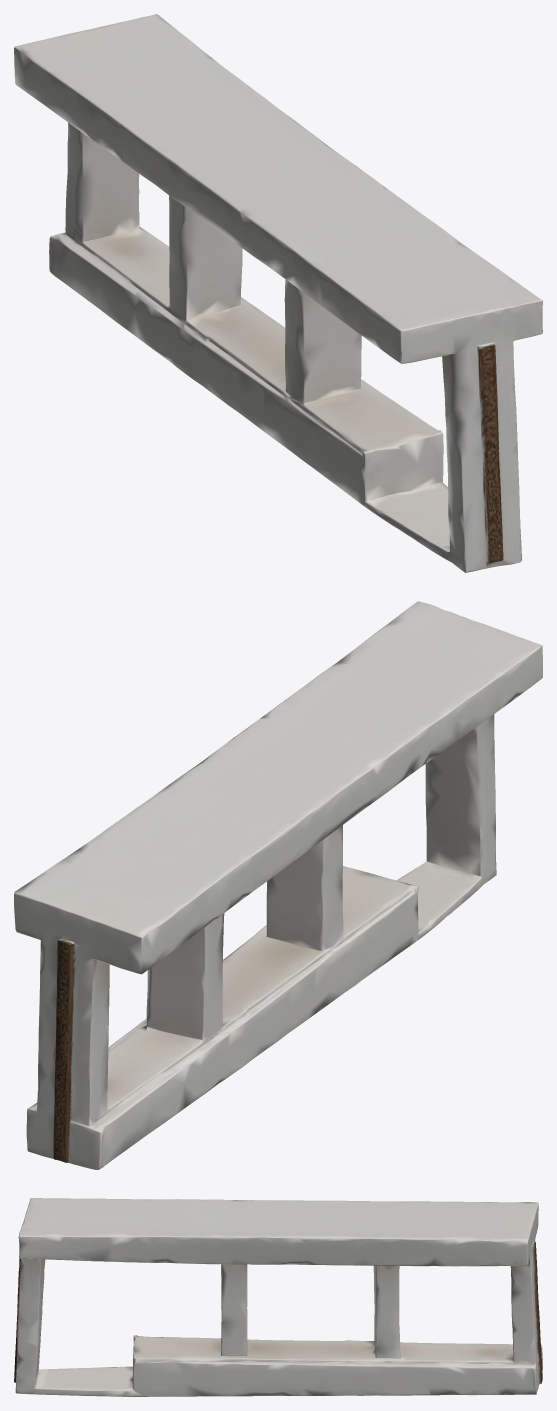
Rendered from gerbang_depan_bicc.glb.
3 renders of one model, top to bottom at view 1: azimuth 30°, elevation 25°; view 2: azimuth 150°, elevation 25°; view 3: azimuth 270°, elevation 25°, orthographic. The views are drawn at different scales.
Visible parts, largest first — view 1: tripo_node_c6df91ce-5374-40ee-8e98-355a507f9b06; view 2: tripo_node_c6df91ce-5374-40ee-8e98-355a507f9b06; view 3: tripo_node_c6df91ce-5374-40ee-8e98-355a507f9b06.
Boxes of the visible parts, bbox=[...] form: tripo_node_c6df91ce-5374-40ee-8e98-355a507f9b06: bbox=[14, 14, 542, 572]; tripo_node_c6df91ce-5374-40ee-8e98-355a507f9b06: bbox=[14, 601, 542, 1169]; tripo_node_c6df91ce-5374-40ee-8e98-355a507f9b06: bbox=[14, 1198, 542, 1396].
Size of the model in its own units: 0.1995 by 0.3441 by 1.
1 material, 1 textured.
